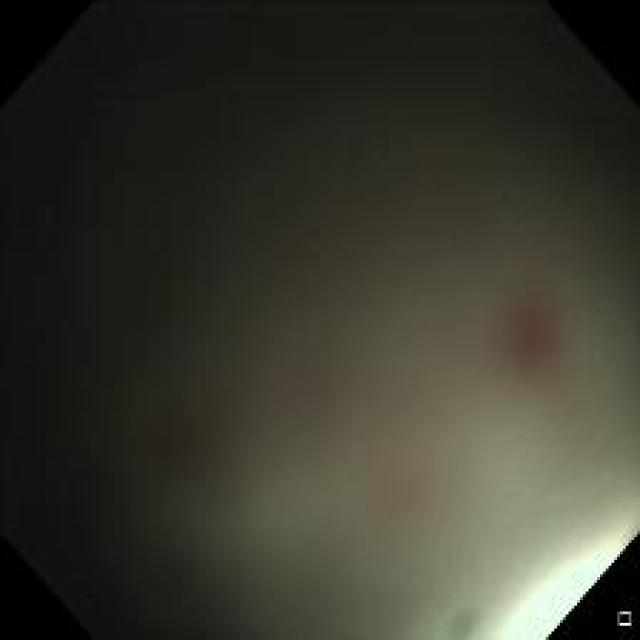color misalignment: (5, 6, 634, 632)
saturation: (502, 545, 618, 629)
